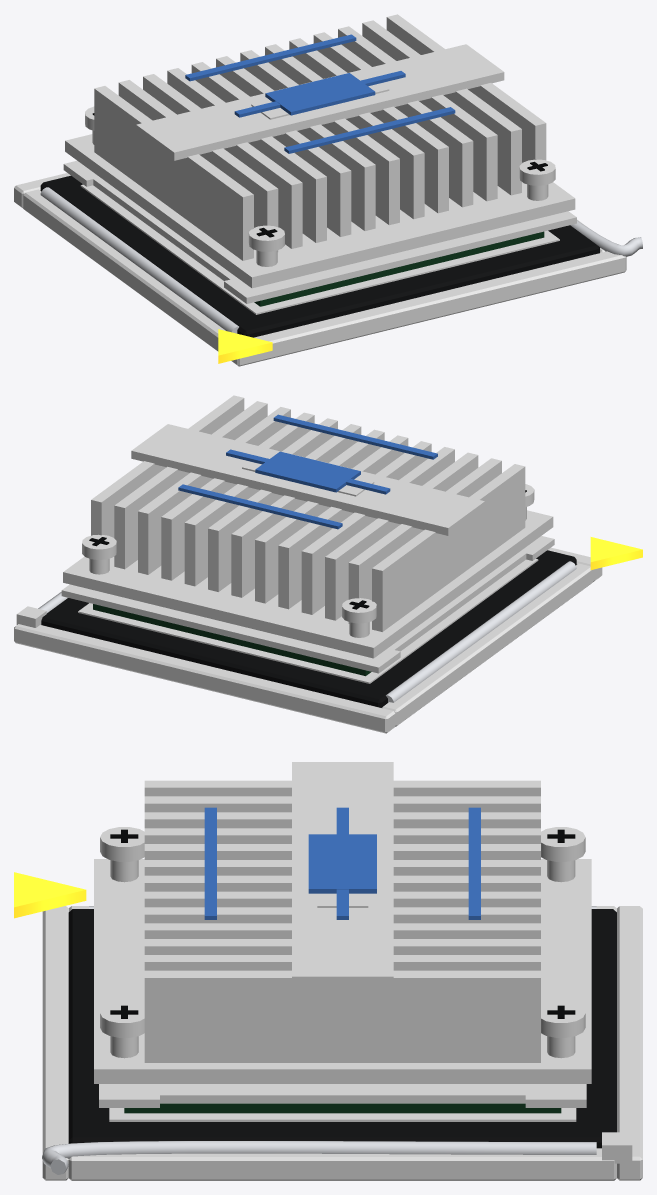
File: hwm_cpu_celeron_2c.glb
The picture shows the model from 3 angles, top to bottom: view 1: azimuth 30°, elevation 25°; view 2: azimuth 150°, elevation 25°; view 3: azimuth 270°, elevation 25°; orthographic projection. The views are drawn at different scales.
Parts seen in each view (by area): view 1: Cooler, Socket, Frame, CPU, Screw_3, Screw_1, Lever; view 2: Cooler, Socket, Frame, CPU, Screw_2, Screw_0; view 3: Cooler, Socket, Frame, Lever, CPU, Screw_1, Screw_3, Screw_0, Screw_2.
Boxes of the visible parts, left/top/right/bottom form: Cooler: left=65, top=14, right=575, bottom=288; Socket: left=14, top=173, right=626, bottom=366; Frame: left=63, top=160, right=576, bottom=303; CPU: left=254, top=231, right=544, bottom=306; Screw_3: left=519, top=159, right=555, bottom=200; Screw_1: left=248, top=225, right=284, bottom=266; Lever: left=570, top=220, right=642, bottom=256; Cooler: left=63, top=395, right=553, bottom=658; Socket: left=14, top=537, right=642, bottom=733; Frame: left=61, top=536, right=554, bottom=673; CPU: left=93, top=604, right=371, bottom=676; Screw_2: left=82, top=534, right=116, bottom=574; Screw_0: left=342, top=598, right=376, bottom=637; Cooler: left=94, top=762, right=591, bottom=1083; Socket: left=14, top=872, right=642, bottom=1180; Frame: left=99, top=1084, right=586, bottom=1107; Lever: left=42, top=1141, right=596, bottom=1174; CPU: left=124, top=1103, right=561, bottom=1113; Screw_1: left=100, top=827, right=144, bottom=882; Screw_3: left=100, top=1003, right=144, bottom=1058; Screw_0: left=541, top=827, right=585, bottom=882; Screw_2: left=541, top=1003, right=585, bottom=1058.
Bounding box in the file's own units: 0.1338 × 0.0421 × 0.1239.
